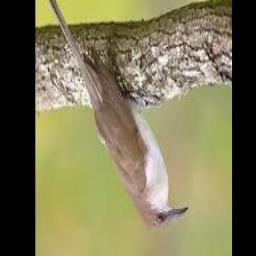Cuckoo: (41, 0, 188, 233)
